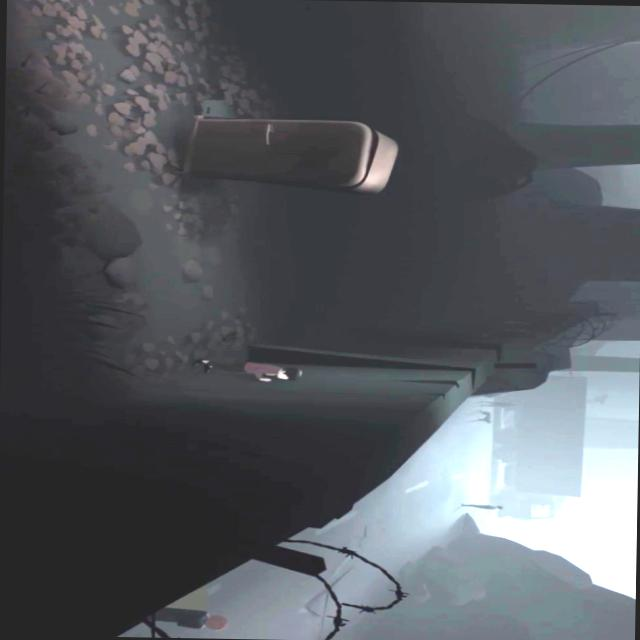boy: (195, 357, 300, 382)
human: (460, 502, 502, 510), (478, 400, 516, 408)
